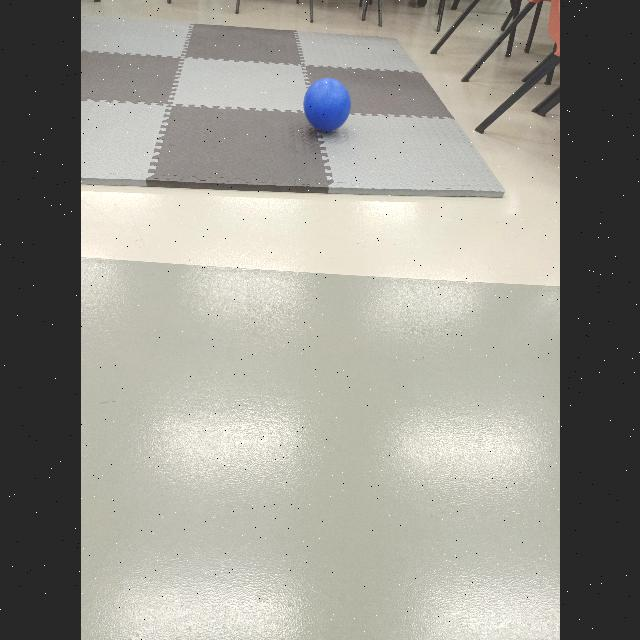B: (302, 74, 354, 134)
